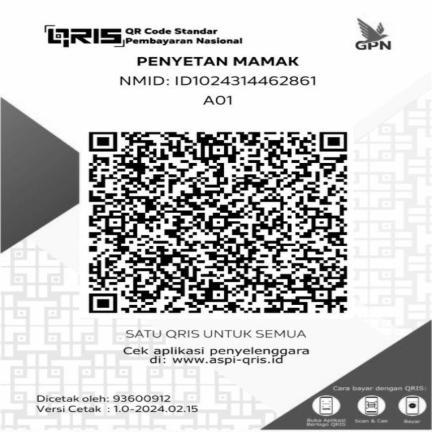Cara Pakai QRIS: (300, 384, 429, 428)
Cek Aplikasi Penyelenggara: (118, 343, 316, 367)
Dicetak Oleh: (32, 392, 174, 403)
Logo GPN: (339, 15, 405, 56)
Logo dan deskripsi QRIS: (34, 17, 253, 50)
Nama Merchant: (131, 55, 309, 68)
National Merchant ID: (108, 73, 329, 88)
QR Code: (78, 122, 356, 319)
Slogan: (117, 324, 316, 340)
Terminal ID: (194, 92, 244, 108)
Versi Cetak: (32, 403, 205, 414)
